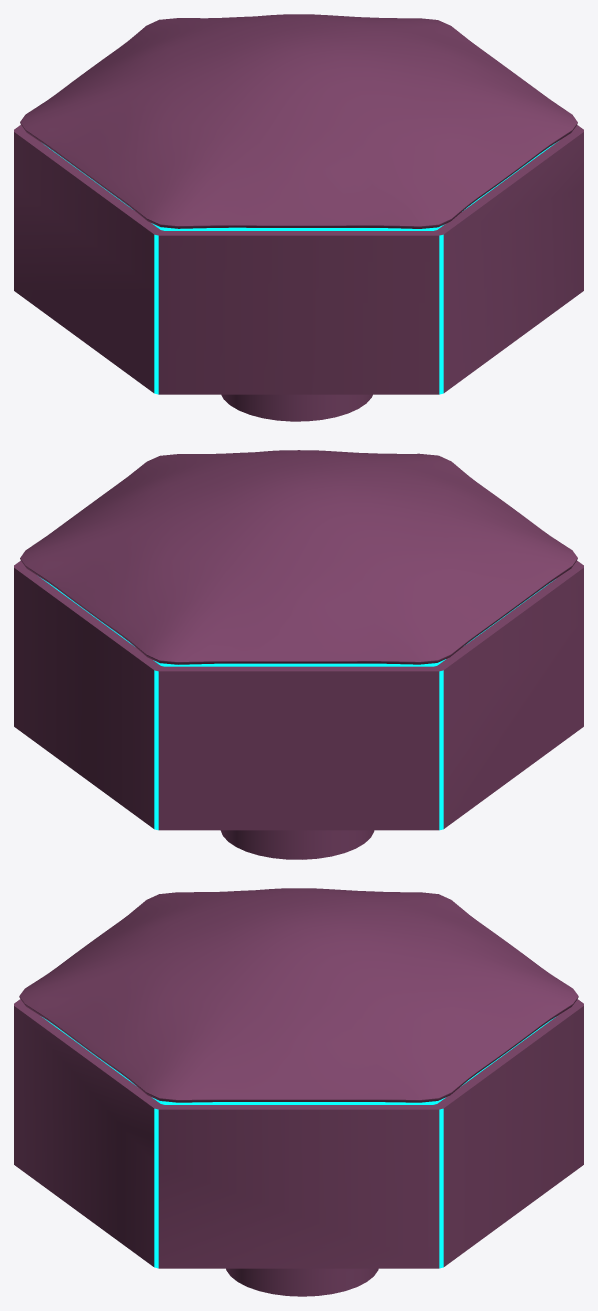
The model's file is INASL_Env.fbx.
3 views of the same model, one above another, from view 1: azimuth 30°, elevation 25°; view 2: azimuth 150°, elevation 25°; view 3: azimuth 270°, elevation 25° (orthographic).
Parts seen in each view (by area): view 1: OuterWalls; view 2: OuterWalls; view 3: OuterWalls.
Boxes of the visible parts, x1,y1,x2,y2 form: OuterWalls: [14, 14, 583, 421]; OuterWalls: [14, 450, 583, 859]; OuterWalls: [14, 888, 583, 1296].
Bounding box in the file's own units: 2953 × 2213 × 3393.
Materials: 3 (1 with a texture image).
